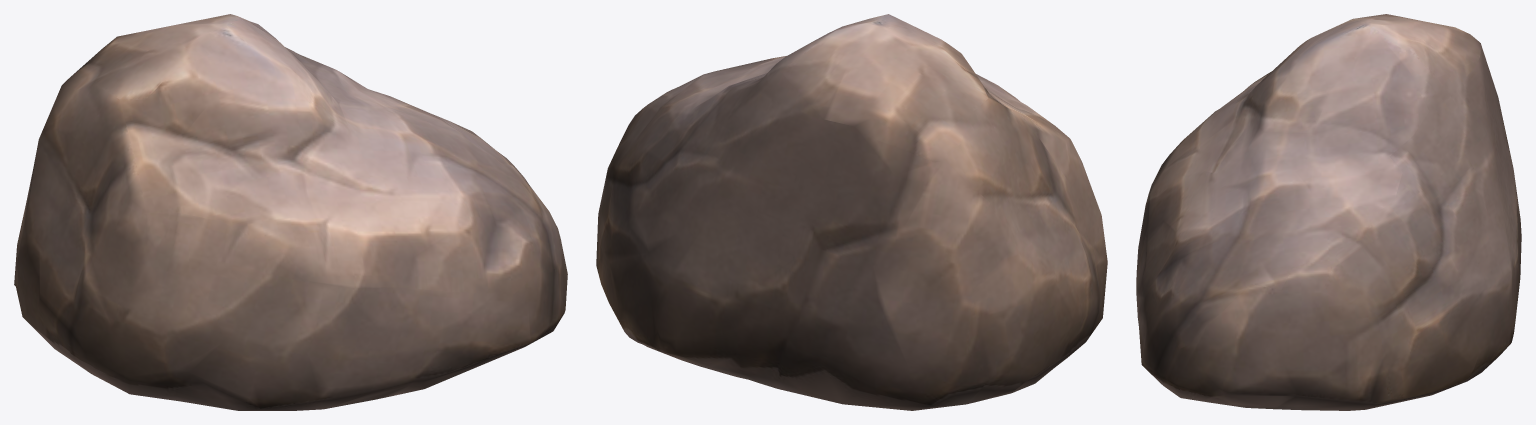
File: stone.glb
The picture shows the model from 3 angles, left to right: view 1: azimuth 30°, elevation 25°; view 2: azimuth 150°, elevation 25°; view 3: azimuth 270°, elevation 25°; orthographic projection. The views are drawn at different scales.
Visible parts, largest first — view 1: stone; view 2: stone; view 3: stone.
Boxes of the visible parts, box(x1,y1,x2,y2) form: stone: box(14, 14, 567, 410); stone: box(596, 14, 1107, 410); stone: box(1136, 14, 1521, 410).
Size of the model in its own units: 1.03 by 0.668 by 0.8071.
1 material, 1 textured.
